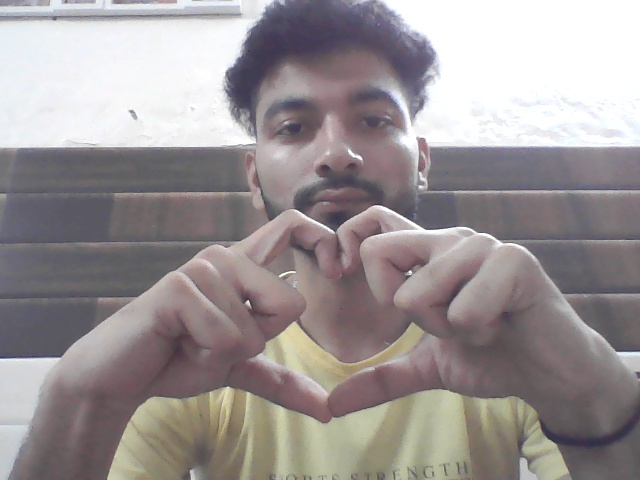Iloveyou: (153, 207, 527, 435)
